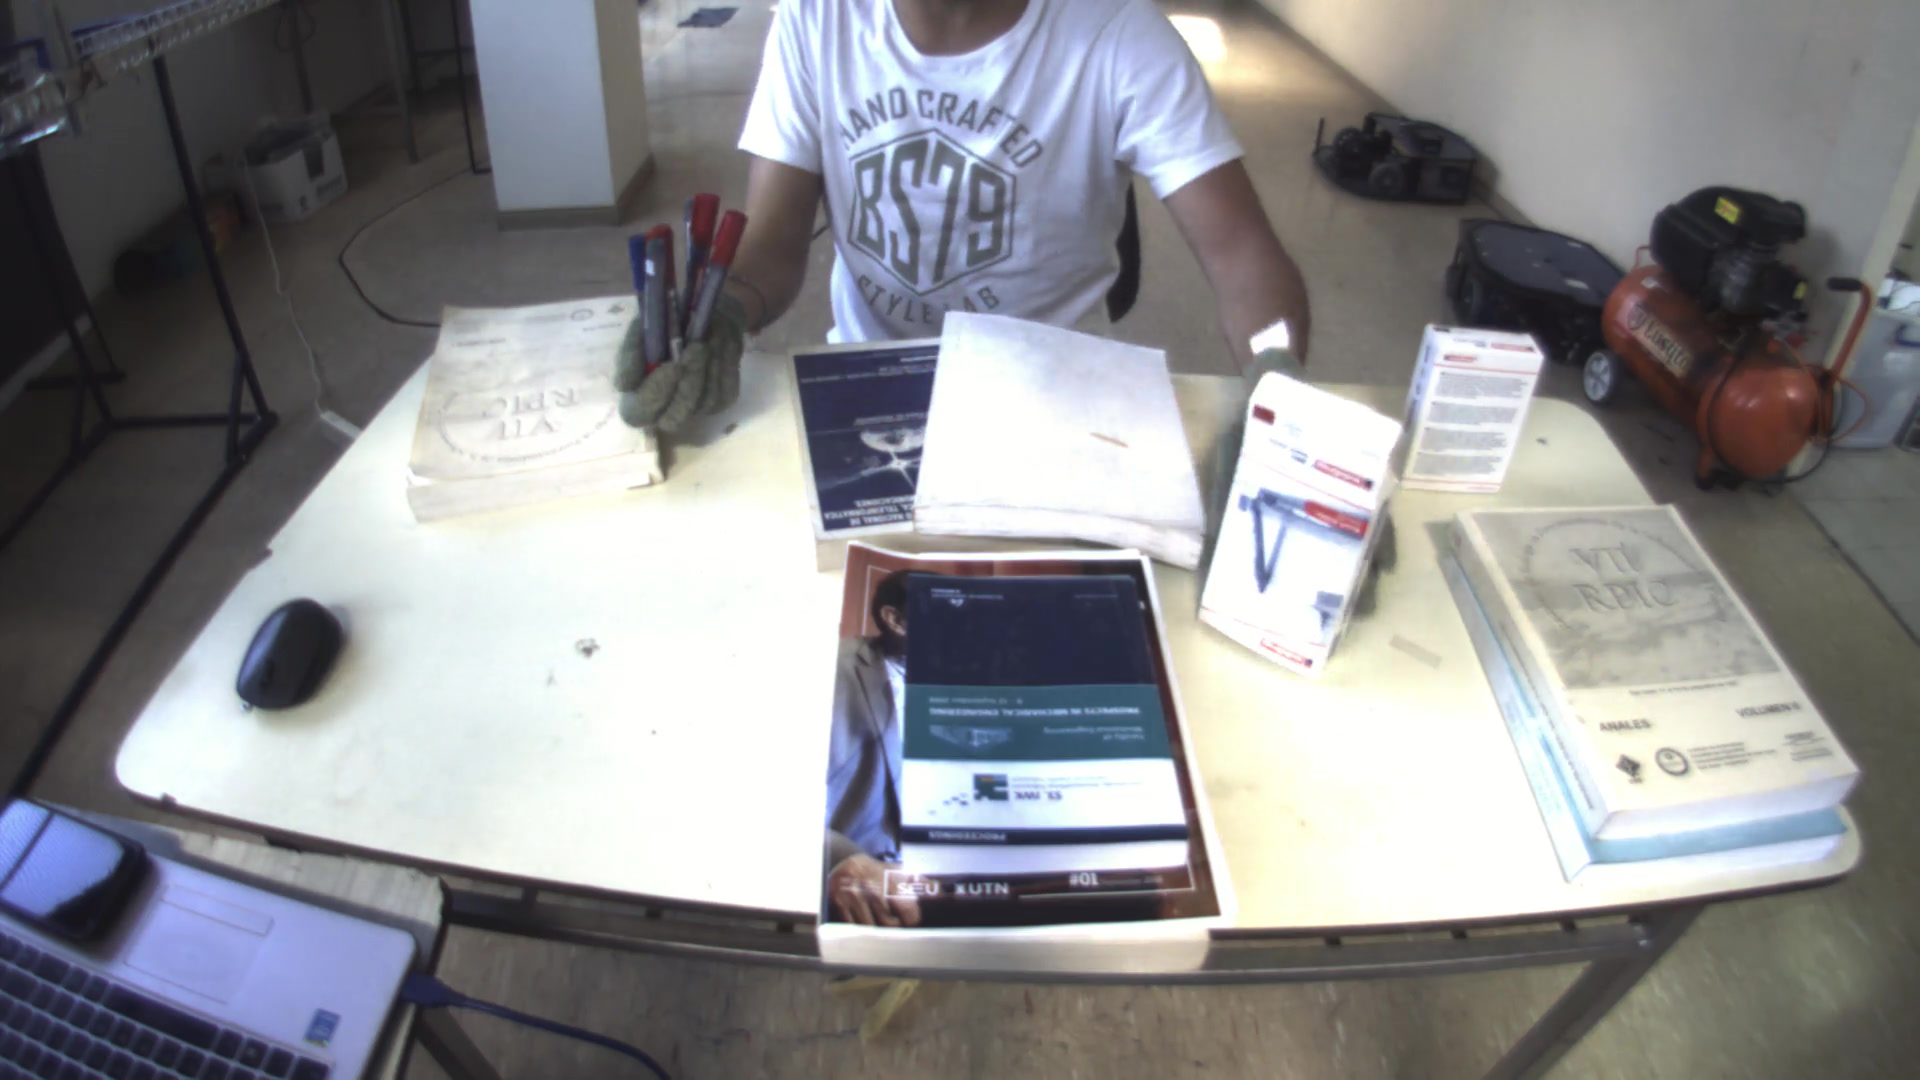hand: (615, 289, 748, 440)
